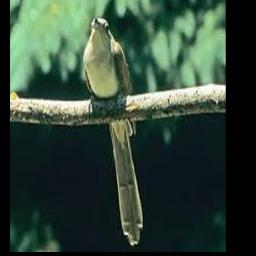Cuckoo: (83, 18, 143, 245)
